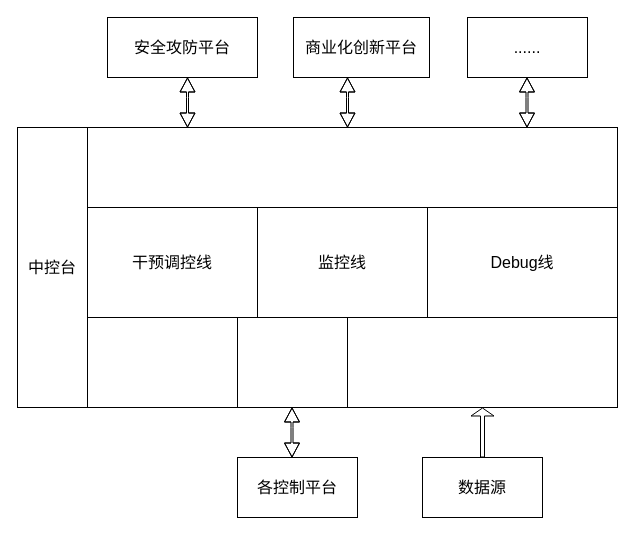
The diagram is 635 pixels wide and 535 high, and some of its shapes have lost their labels. Here are the shapes that lost their labels. From the top down, the centre of each, then its label:
At [352,167]: "业务线外接".
At [162,362]: "AB实验平台".
At [292,362]: "交互".
At [482,362]: "实时数据仓库".
